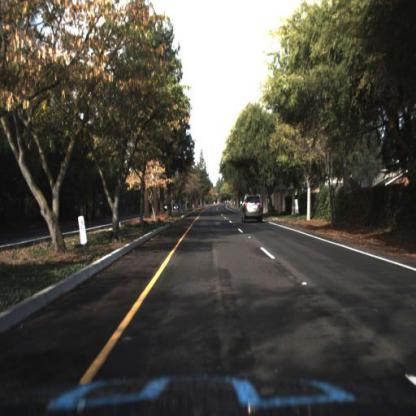car: (238, 191, 263, 223)
